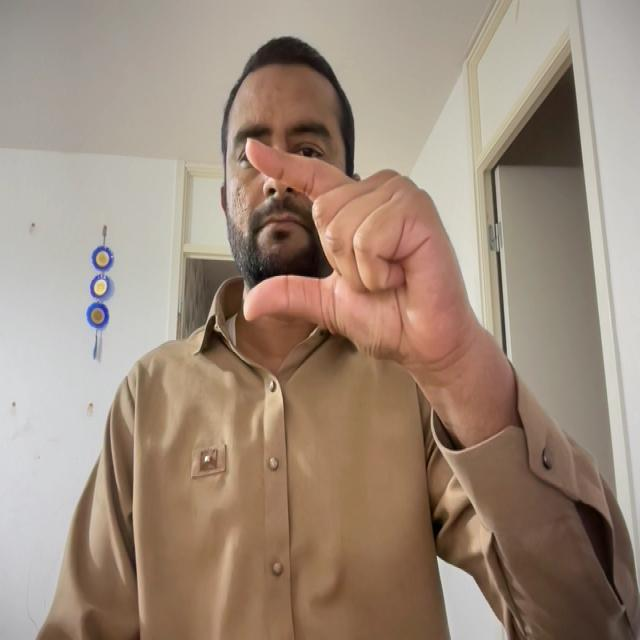No: (230, 85, 485, 380)
